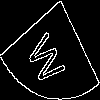W: (25, 25, 72, 90)
